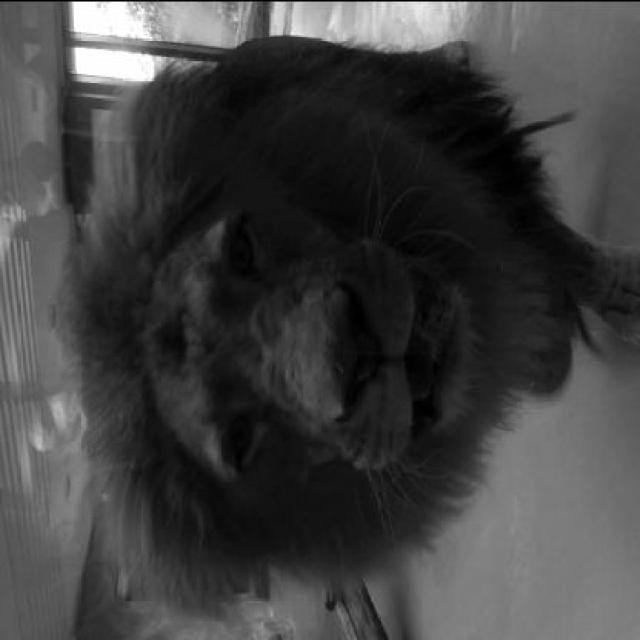Lion: (64, 43, 578, 622)
